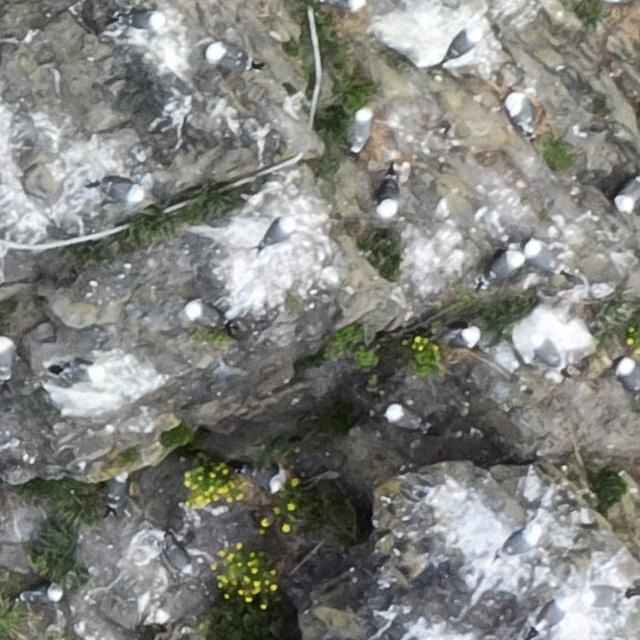umineko: (522, 234, 569, 278), (442, 23, 485, 59), (502, 524, 542, 562), (484, 250, 522, 286), (56, 359, 106, 386), (379, 169, 402, 217), (612, 180, 640, 218), (208, 48, 250, 72), (242, 467, 285, 490), (100, 180, 146, 200), (537, 602, 568, 630), (447, 326, 481, 350), (511, 99, 534, 134), (263, 220, 291, 246), (388, 407, 421, 429), (354, 110, 373, 148), (189, 304, 221, 326), (122, 11, 160, 29), (24, 586, 59, 604), (617, 361, 637, 388), (110, 474, 126, 498), (0, 337, 11, 368), (324, 0, 358, 9)
